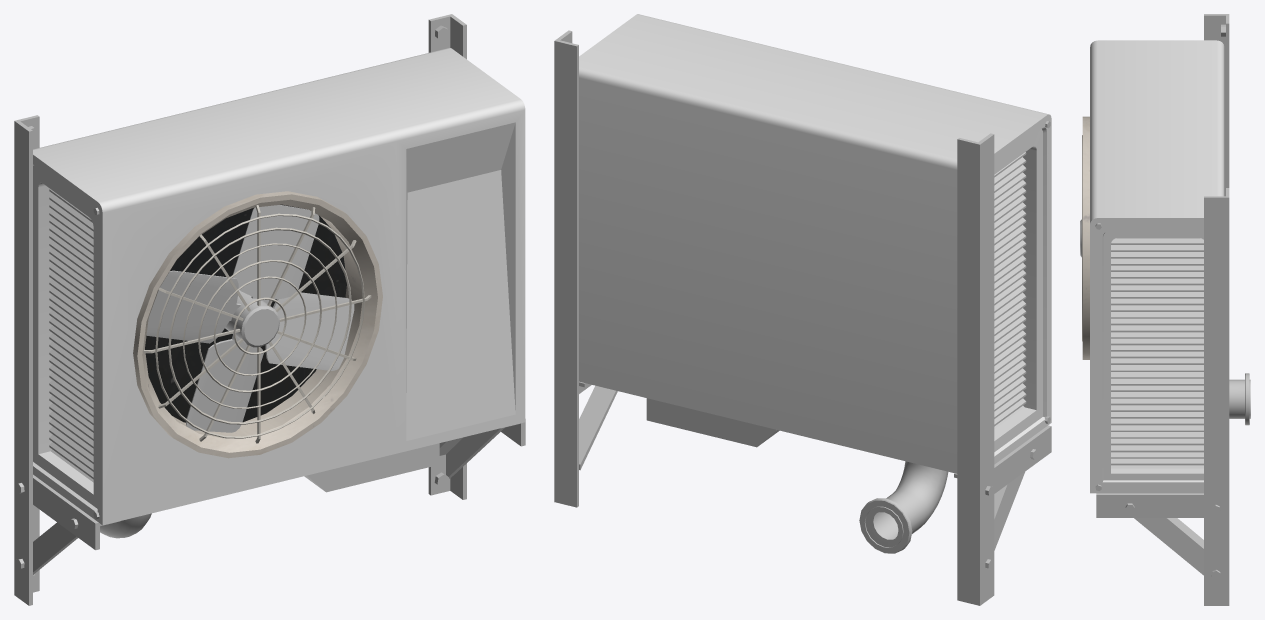
Rendered from KB3D_CBP_ACunit_V.fbx.
The picture shows the model from 3 angles, left to right: view 1: azimuth 30°, elevation 25°; view 2: azimuth 150°, elevation 25°; view 3: azimuth 270°, elevation 25°; orthographic projection. The views are drawn at different scales.
Visible parts, largest first — view 1: KB3D_CBP_ACunit_V_Main; view 2: KB3D_CBP_ACunit_V_Main; view 3: KB3D_CBP_ACunit_V_Main.
Boxes of the visible parts, x1=… form: KB3D_CBP_ACunit_V_Main: x1=14, y1=14, x2=525, y2=605; KB3D_CBP_ACunit_V_Main: x1=554, y1=14, x2=1051, y2=605; KB3D_CBP_ACunit_V_Main: x1=1080, y1=14, x2=1250, y2=605.
Bounding box in the file's own units: 116 × 118 × 44.73.
